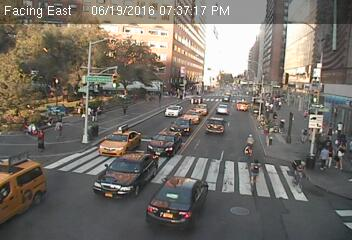neg: (86, 75, 106, 100), (122, 41, 140, 64), (150, 44, 166, 66), (122, 93, 138, 114), (29, 68, 45, 88), (96, 39, 111, 58), (185, 55, 198, 72), (246, 80, 257, 94), (68, 43, 78, 56), (230, 83, 239, 94)
pos: (331, 137, 351, 170), (316, 144, 336, 172), (32, 127, 51, 154), (49, 117, 67, 141), (335, 119, 351, 141), (322, 118, 336, 137), (298, 126, 311, 144), (299, 105, 311, 121), (89, 107, 100, 123)
